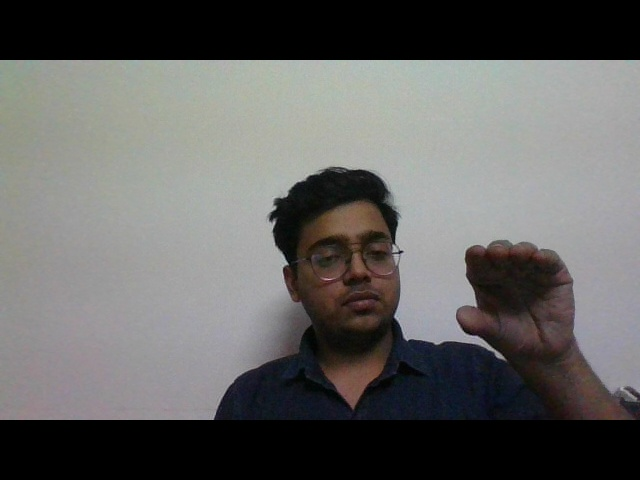no: (433, 238, 595, 373)
